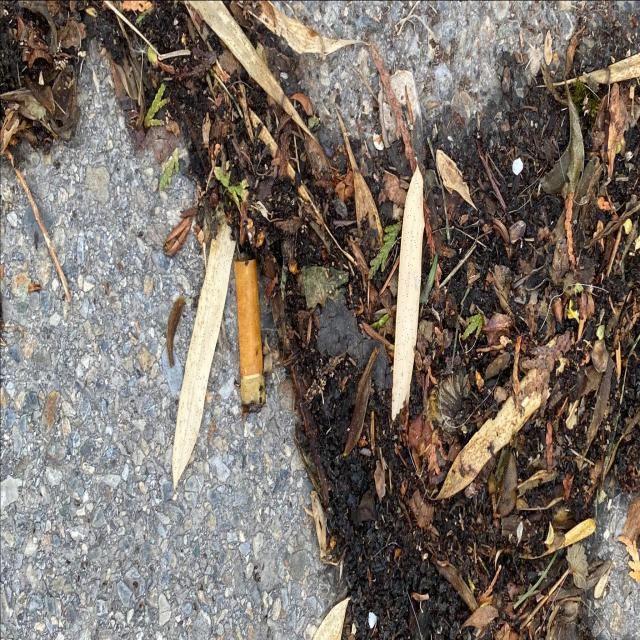other waste: (233, 258, 266, 420)
